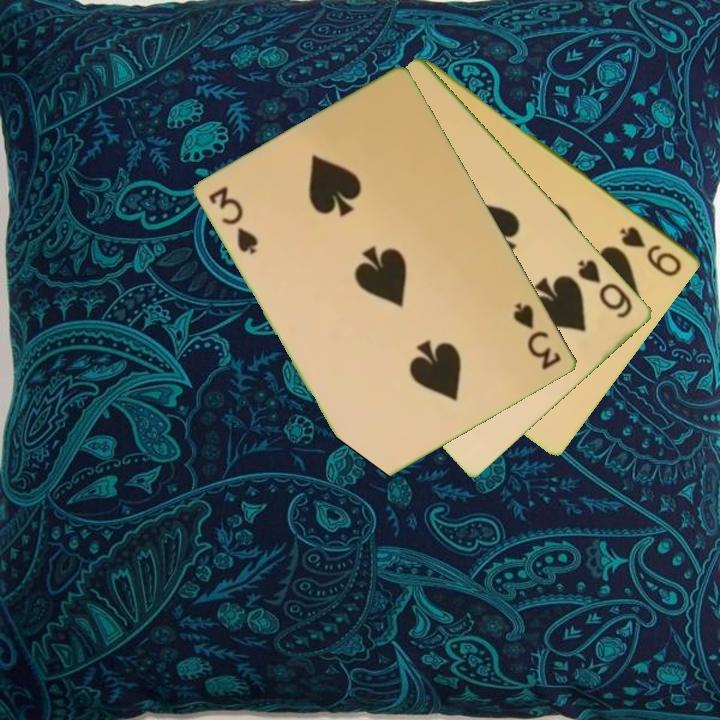3s: (206, 182, 262, 258), (510, 299, 565, 373)
6s: (574, 256, 636, 321)
9s: (616, 222, 686, 280)
